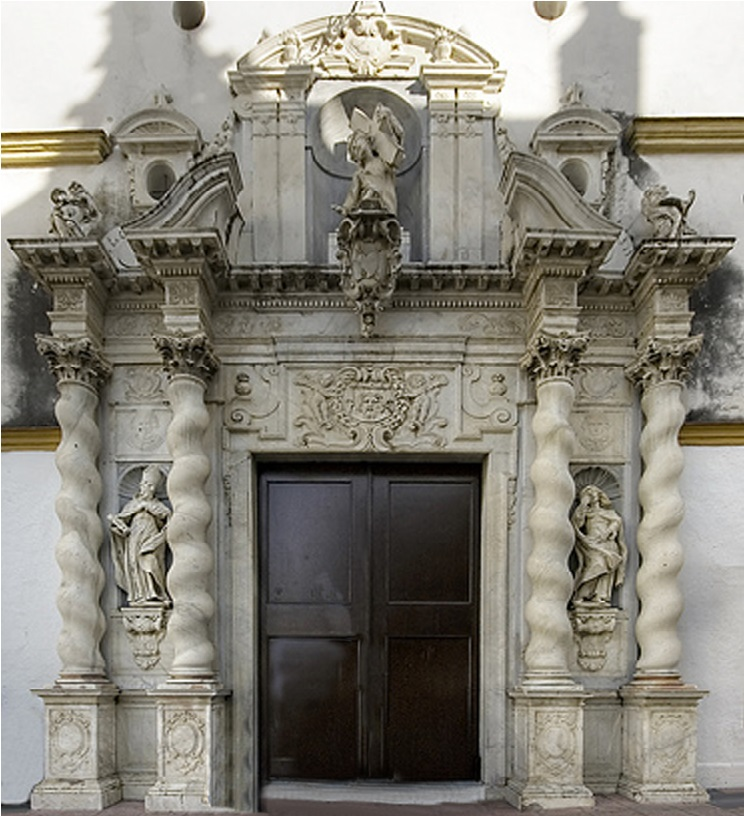columna-salomonica: (47, 379, 112, 684), (518, 376, 582, 677), (627, 376, 691, 675), (159, 378, 220, 679)
fronton-curvo: (108, 105, 202, 145), (530, 106, 625, 141)
fronton-partido: (119, 148, 627, 285), (235, 10, 502, 87)
vano-adintelado: (222, 419, 519, 794)
